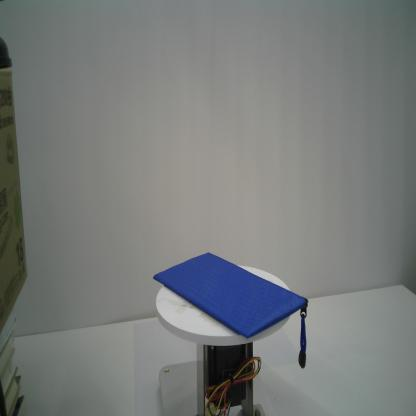Stationery: (151, 248, 310, 371)
